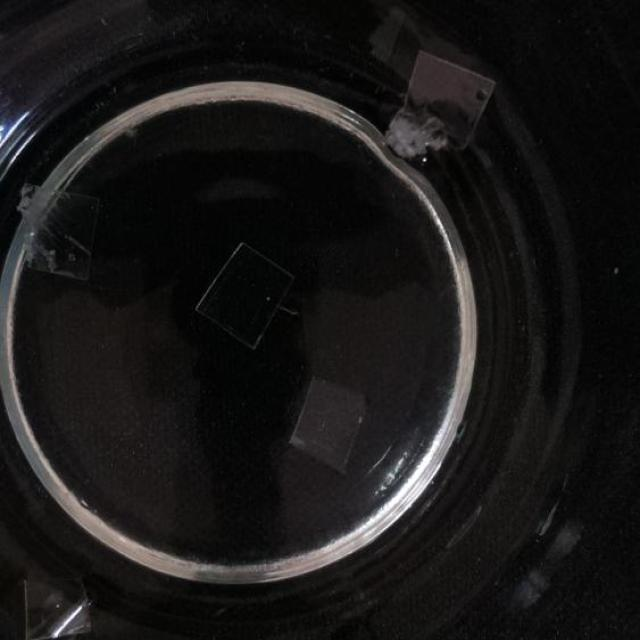fiber: (389, 39, 498, 168), (191, 236, 294, 354), (14, 174, 100, 281), (288, 377, 370, 472), (24, 558, 99, 639)
